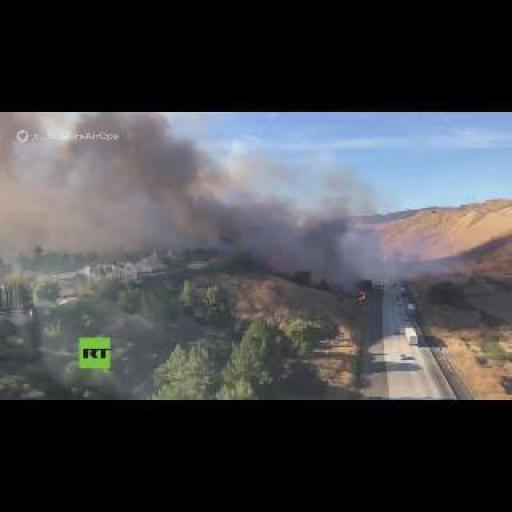smoke: (62, 112, 356, 288), (354, 291, 366, 299)
